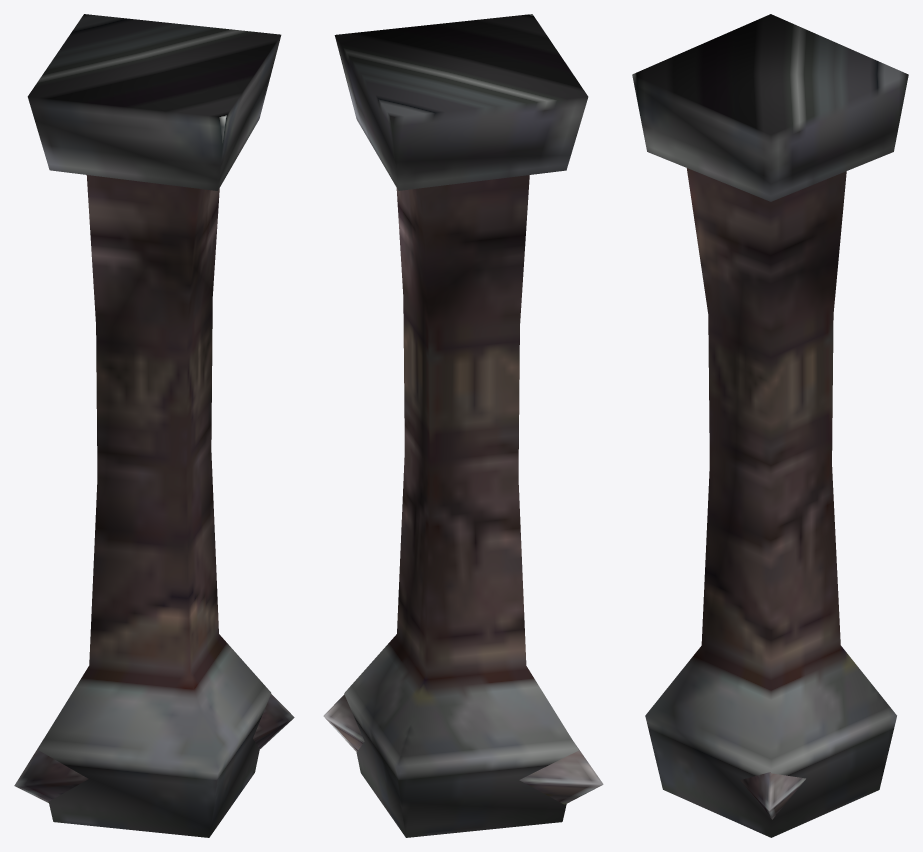
Rendered from lightsaber01_mat_e4ff0bd0.glb.
3 renders of one model, left to right at view 1: azimuth 30°, elevation 25°; view 2: azimuth 150°, elevation 25°; view 3: azimuth 270°, elevation 25°, orthographic. The views are drawn at different scales.
Bounding box in the file's own units: 0.1969 × 0.4905 × 0.1719.
1 material, 1 textured.
